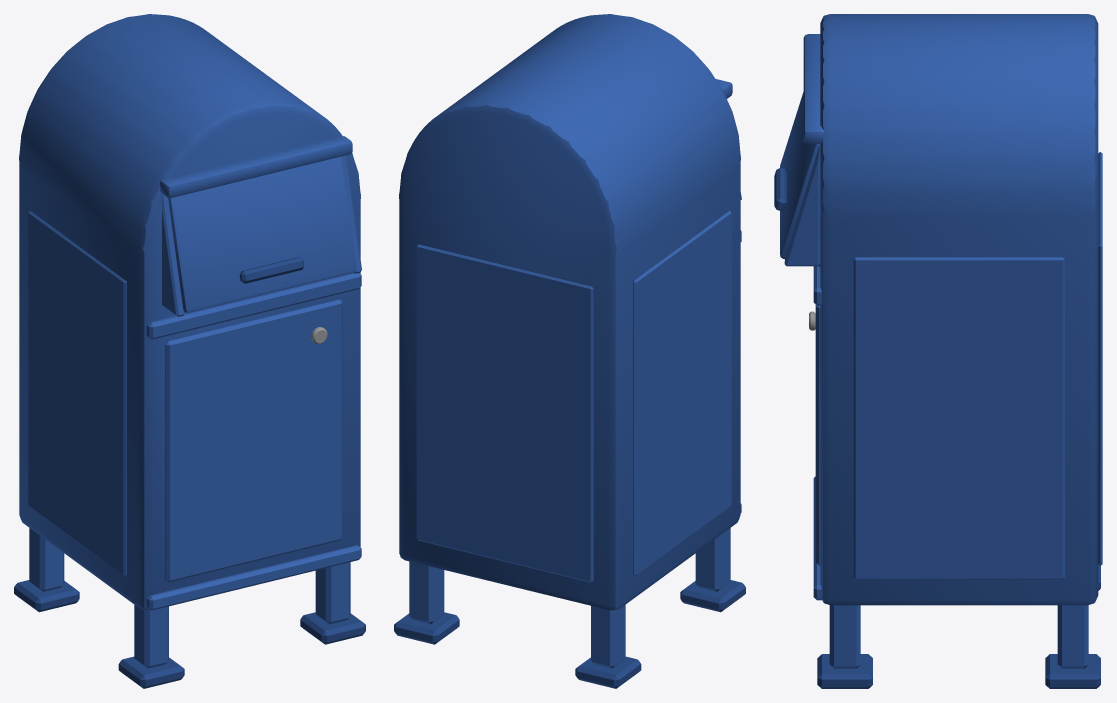
The model's file is Mailbox.fbx.
3 renders of one model, left to right at view 1: azimuth 30°, elevation 25°; view 2: azimuth 150°, elevation 25°; view 3: azimuth 270°, elevation 25°, orthographic. The views are drawn at different scales.
Parts seen in each view (by area): view 1: Mailbox_Mesh; view 2: Mailbox_Mesh; view 3: Mailbox_Mesh.
Boxes of the visible parts, <box> form: Mailbox_Mesh: <box>14,14,365,688</box>; Mailbox_Mesh: <box>394,14,745,688</box>; Mailbox_Mesh: <box>774,14,1102,688</box>.
Size of the model in its own units: 0.516 by 1.2 by 0.5905.
